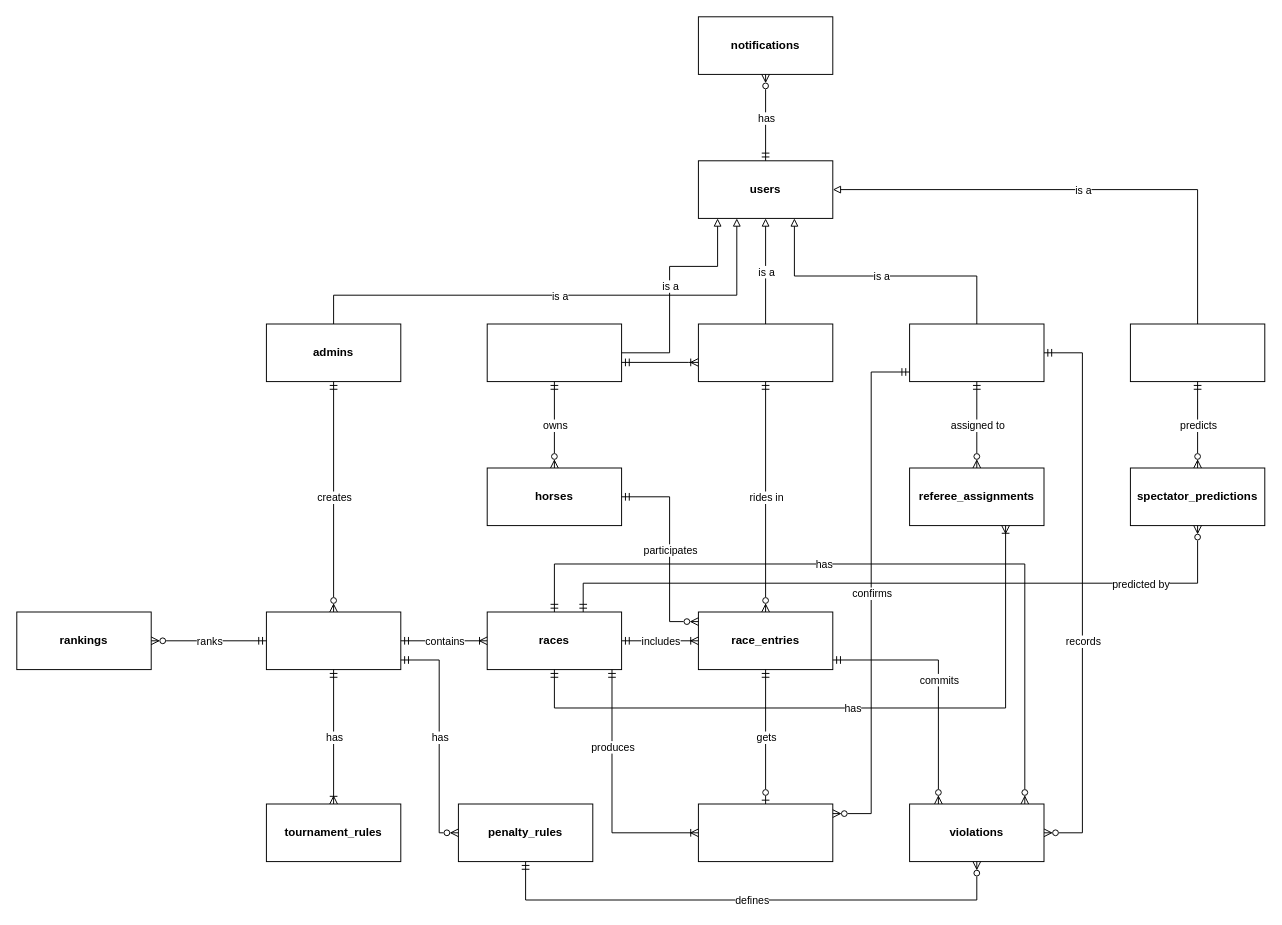
Some shapes in this 1282 by 925 pixel diagram are drawn without their labels. The shapes that lost their labels are listed below. From the top down, each one's box as (x1, y1, x2, y2) in pixels, then its label:
(486, 323, 622, 382): horse_owners
(697, 323, 833, 382): jockeys
(909, 323, 1044, 382): referees
(1129, 323, 1265, 382): spectators
(265, 611, 401, 670): tournaments
(697, 803, 833, 862): race_results
